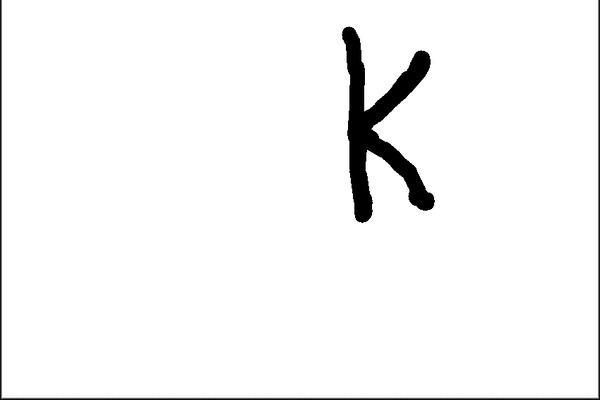K: (333, 17, 446, 233)
